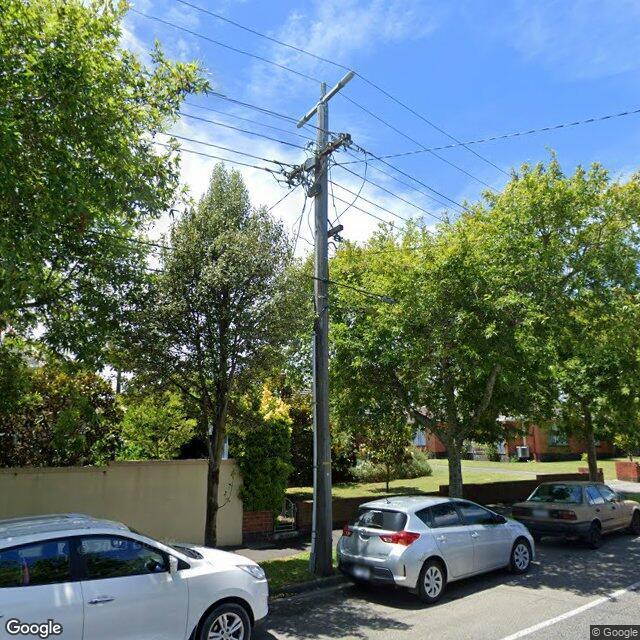HV-transmission: (297, 70, 354, 128)
crossarm: (288, 133, 351, 179), (304, 82, 343, 121), (327, 225, 343, 238)
timber-pole: (314, 102, 332, 576)
